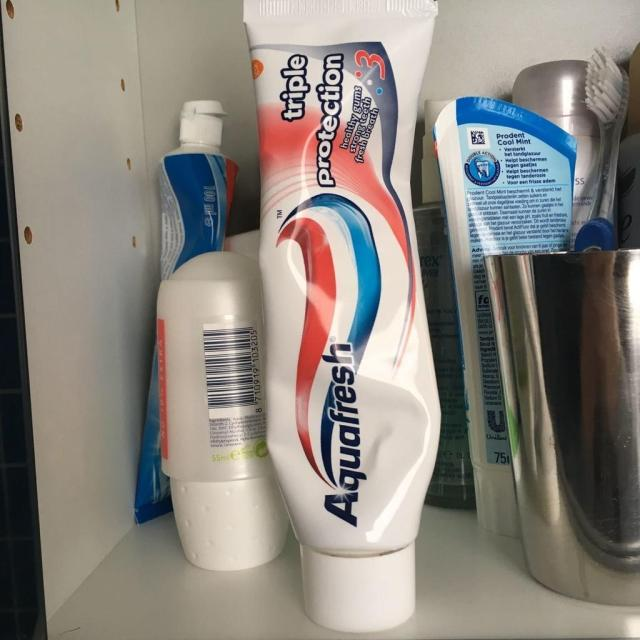Toothpaste: (240, 0, 441, 634), (138, 99, 243, 525)
